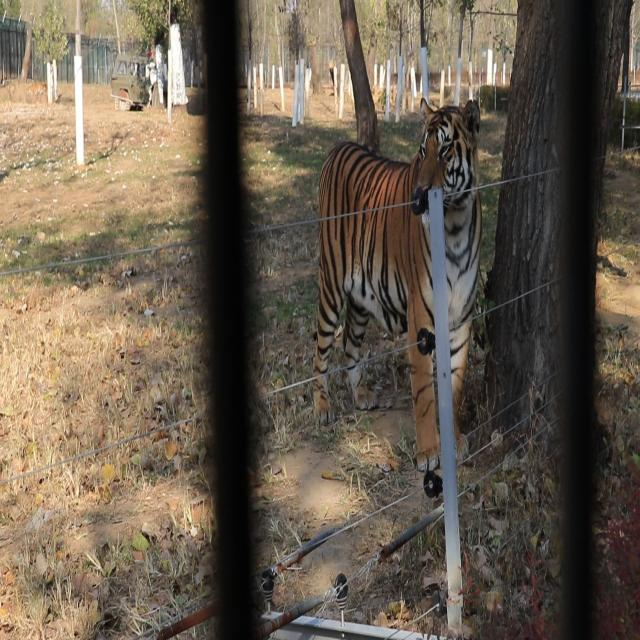Tiger: (280, 88, 503, 490)
